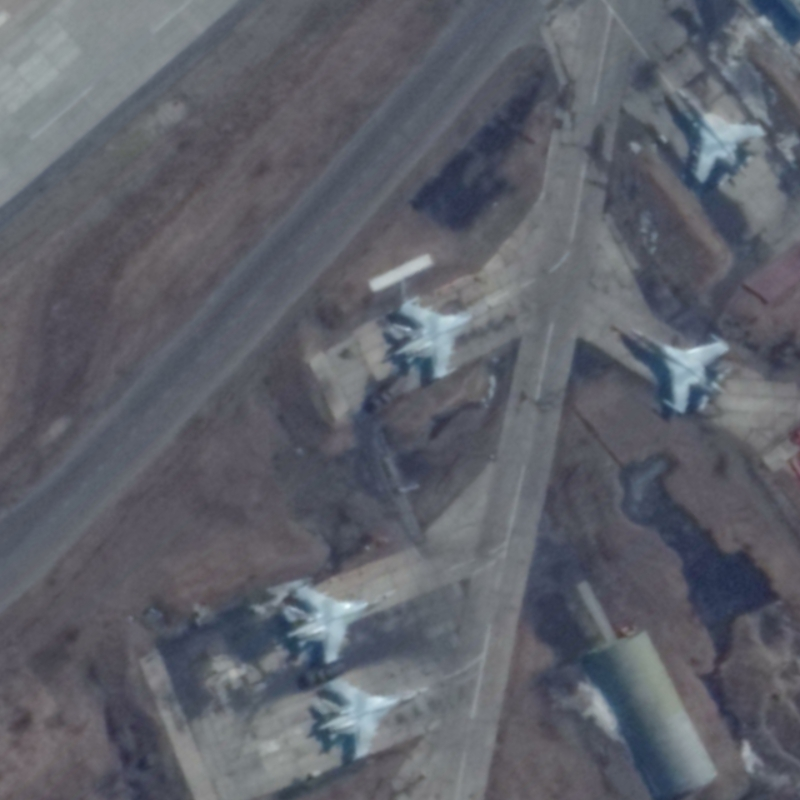A1: (280, 573, 400, 667), (312, 674, 432, 760), (381, 292, 494, 382), (671, 84, 770, 186), (628, 320, 732, 416)
